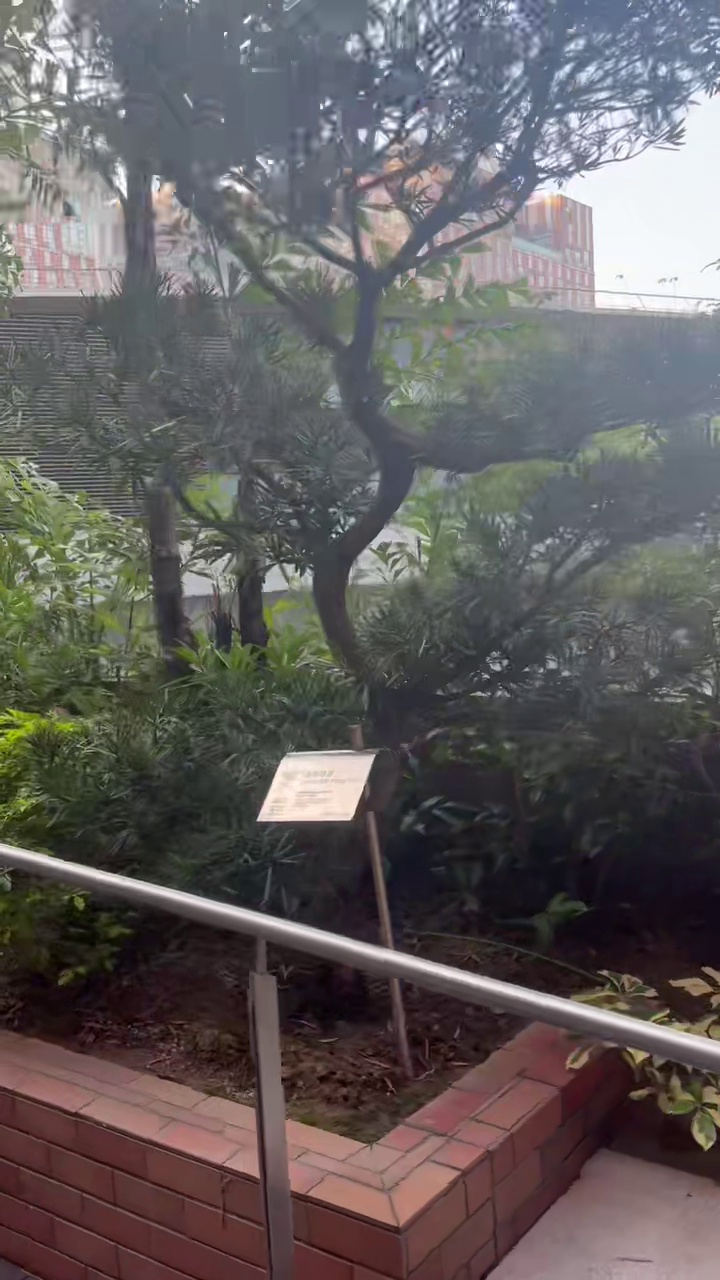Podocarpus macrophyllus: (66, 0, 719, 671)
